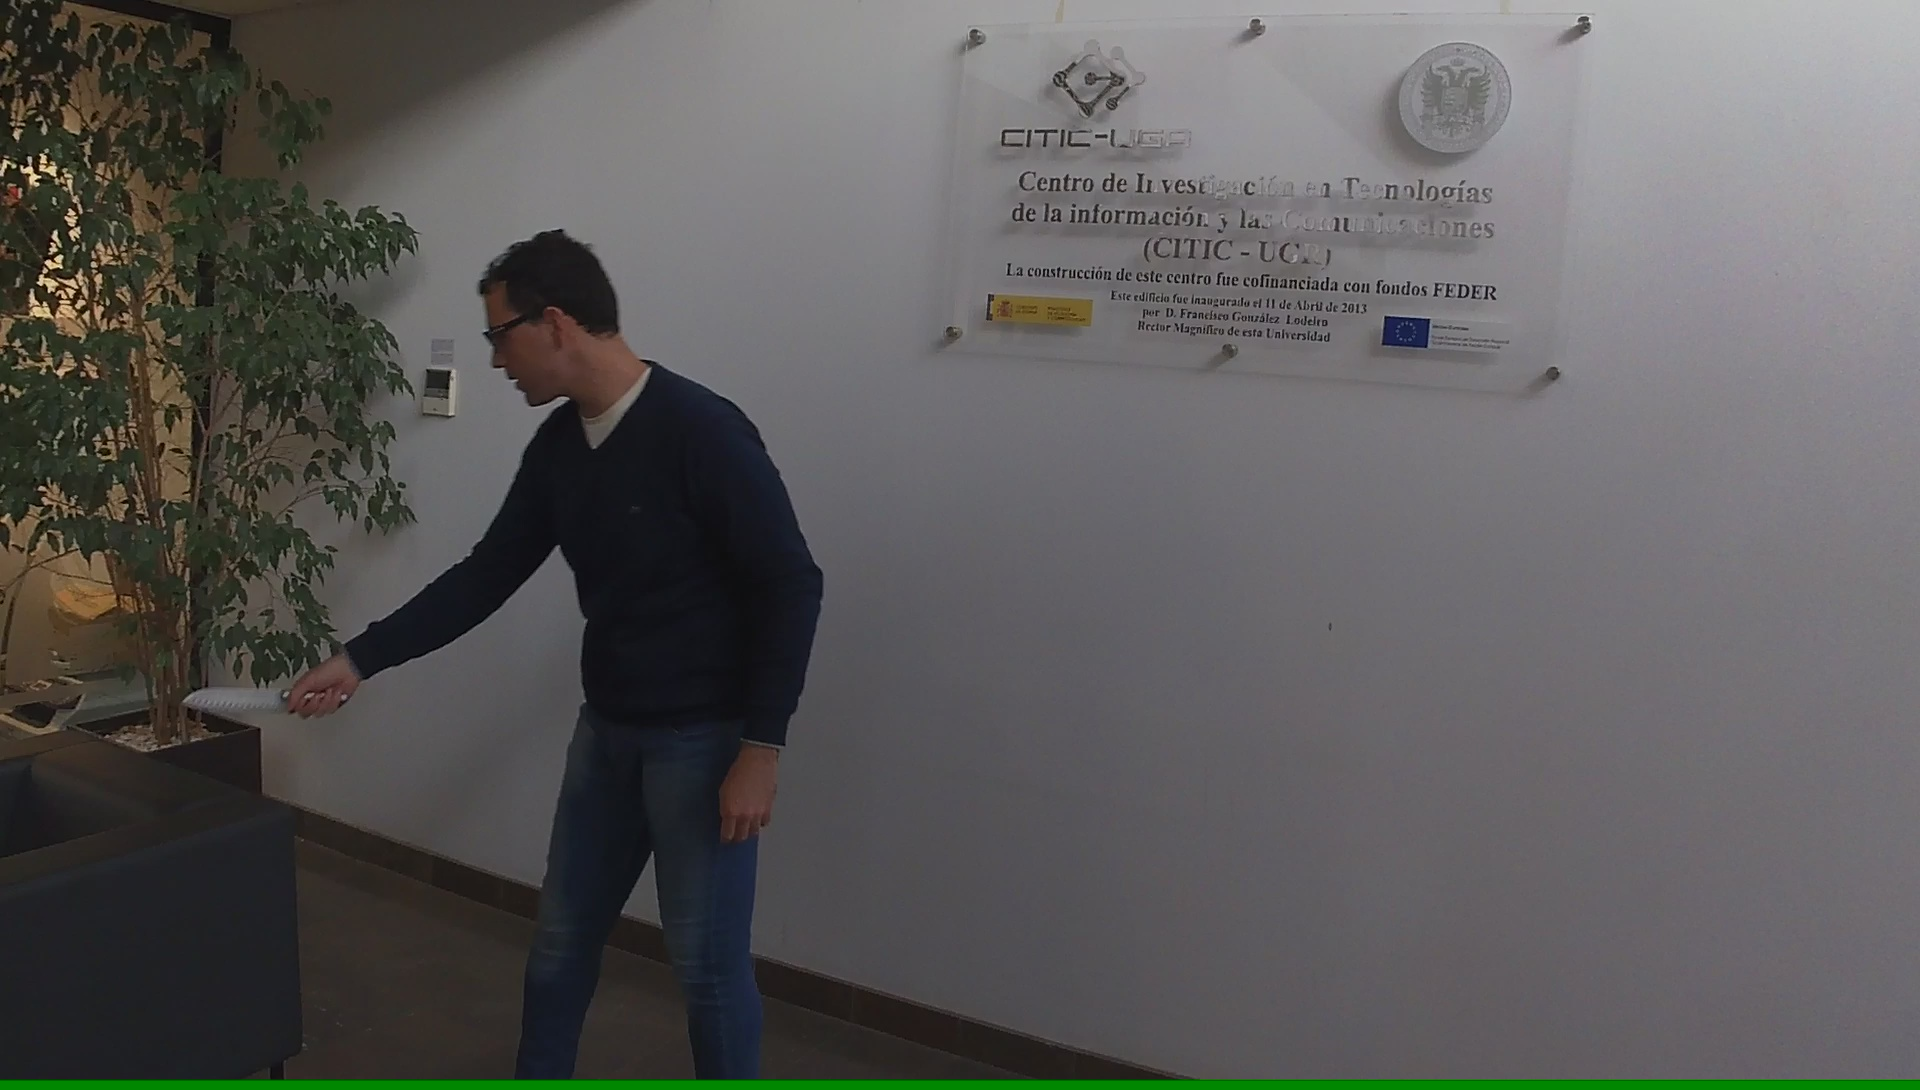knife: (174, 676, 357, 722)
